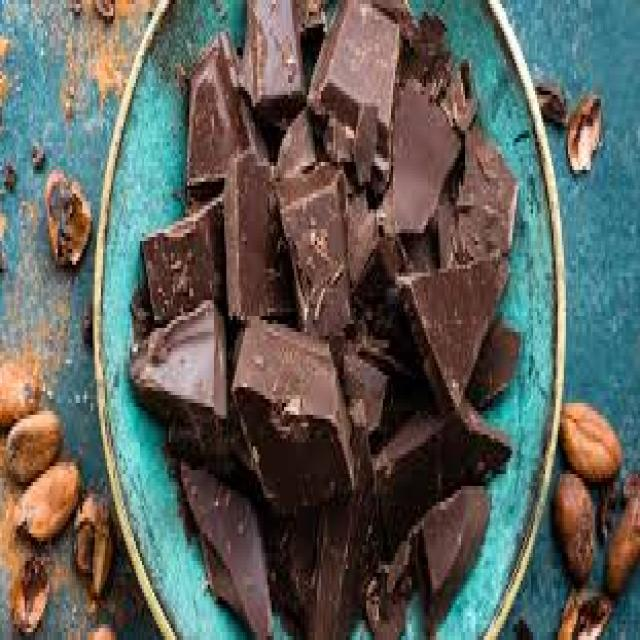Chocolate: (132, 0, 524, 640)
